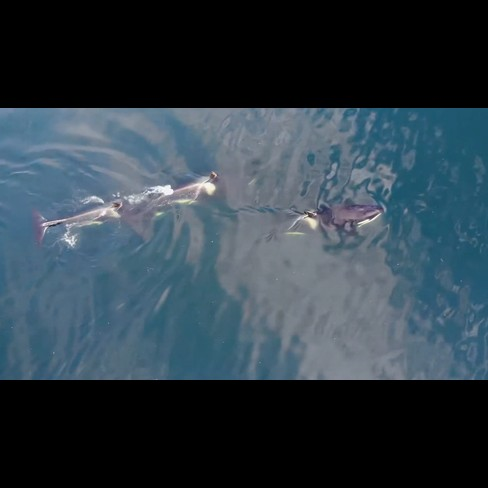orca: (24, 146, 288, 254), (243, 194, 388, 272)
